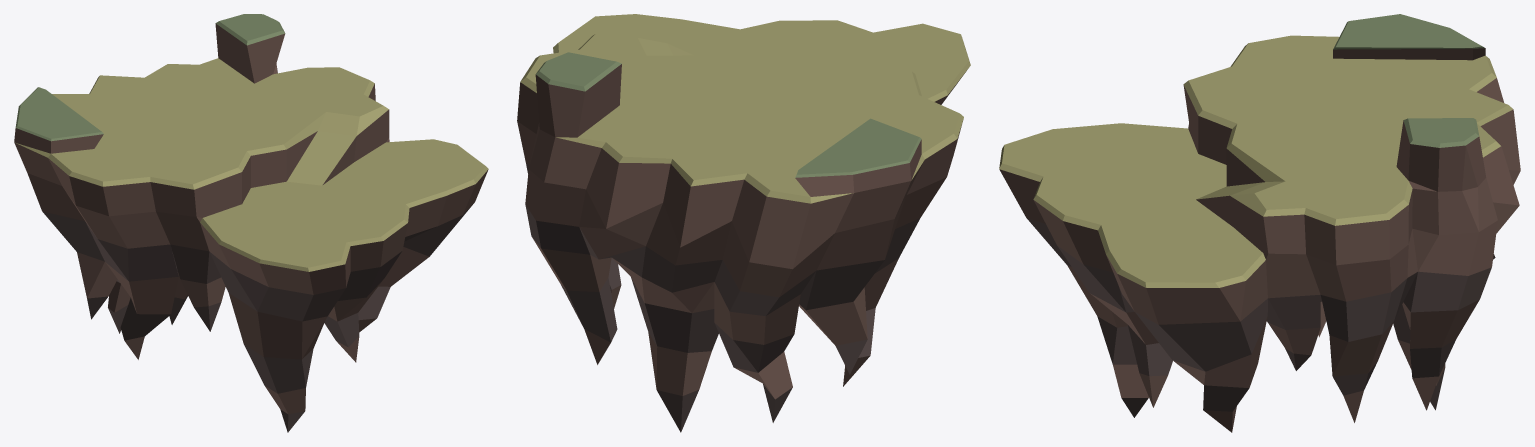
Rendered from LightSoilFloorSmallFloatingIsland1.fbx.
The picture shows the model from 3 angles, left to right: view 1: azimuth 30°, elevation 25°; view 2: azimuth 150°, elevation 25°; view 3: azimuth 270°, elevation 25°; orthographic projection. The views are drawn at different scales.
Visible parts, largest first — view 1: LightSoilFloorSmallFloatingIsland1Grass, LightSoilFloorSmallFloatingIsland1Soil; view 2: LightSoilFloorSmallFloatingIsland1Soil, LightSoilFloorSmallFloatingIsland1Grass; view 3: LightSoilFloorSmallFloatingIsland1Soil, LightSoilFloorSmallFloatingIsland1Grass.
Part boxes in pixels (x1,y1,x2,y2): LightSoilFloorSmallFloatingIsland1Grass: (15, 14, 488, 271); LightSoilFloorSmallFloatingIsland1Soil: (14, 23, 488, 432); LightSoilFloorSmallFloatingIsland1Soil: (517, 64, 966, 432); LightSoilFloorSmallFloatingIsland1Grass: (520, 14, 970, 203); LightSoilFloorSmallFloatingIsland1Soil: (999, 48, 1520, 432); LightSoilFloorSmallFloatingIsland1Grass: (999, 14, 1513, 287).
Size of the model in its own units: 2951 by 2220 by 3058.
